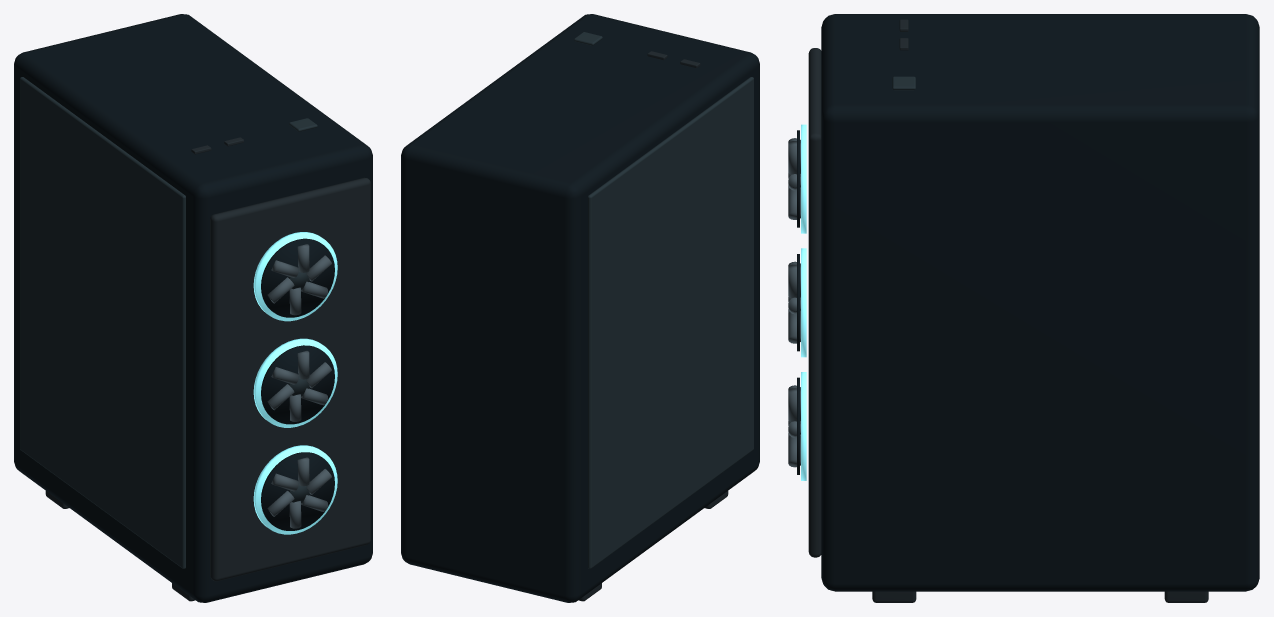
File: computer_tower.glb
3 renders of one model, left to right at view 1: azimuth 30°, elevation 25°; view 2: azimuth 150°, elevation 25°; view 3: azimuth 270°, elevation 25°, orthographic. The views are drawn at different scales.
Visible parts, largest first — view 1: computer_tower_Mesh; view 2: computer_tower_Mesh; view 3: computer_tower_Mesh.
Boxes of the visible parts, <box> form: computer_tower_Mesh: <box>14,14,372,602</box>; computer_tower_Mesh: <box>401,14,759,602</box>; computer_tower_Mesh: <box>788,14,1259,602</box>.
Bounding box in the file's own units: 0.2495 × 0.5755 × 0.484.
